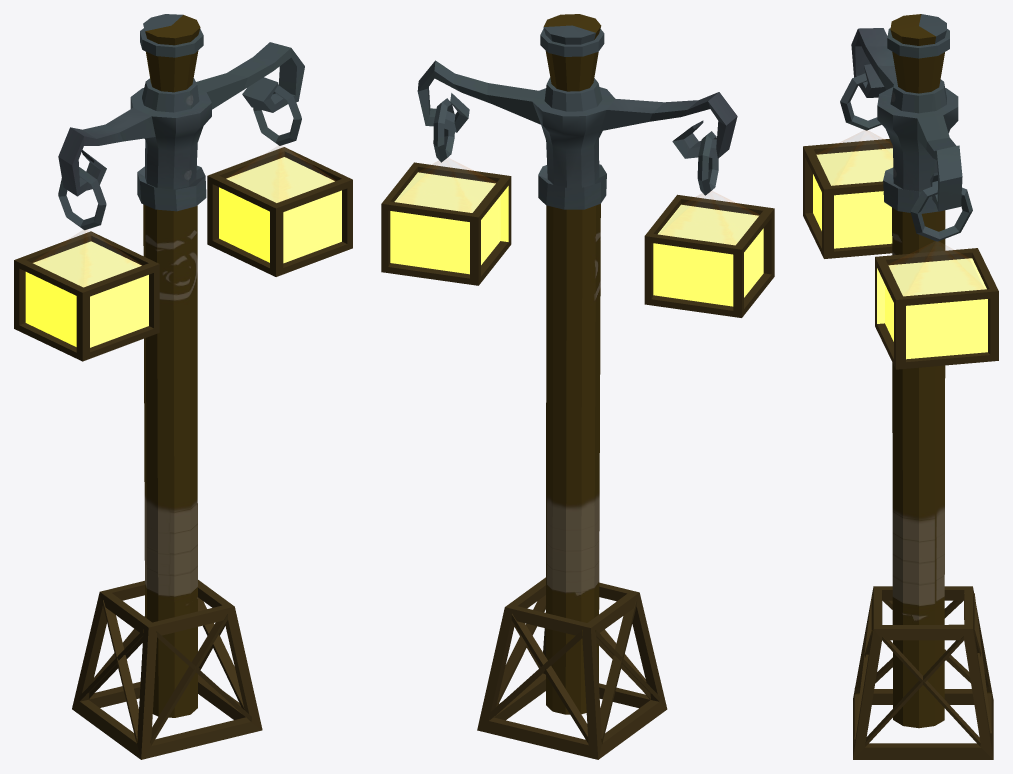
3 views of the same model, side by side, from view 1: azimuth 30°, elevation 25°; view 2: azimuth 150°, elevation 25°; view 3: azimuth 270°, elevation 25° (orthographic).
Visible parts, largest first — view 1: _LP; view 2: _LP; view 3: _LP.
Part boxes in pixels (x1,y1,x2,y2): _LP: [14, 14, 352, 759]; _LP: [381, 14, 774, 759]; _LP: [803, 14, 998, 759].
Bounding box in the file's own units: 232 × 462 × 116.
Materials: 5 (5 with a texture image).
